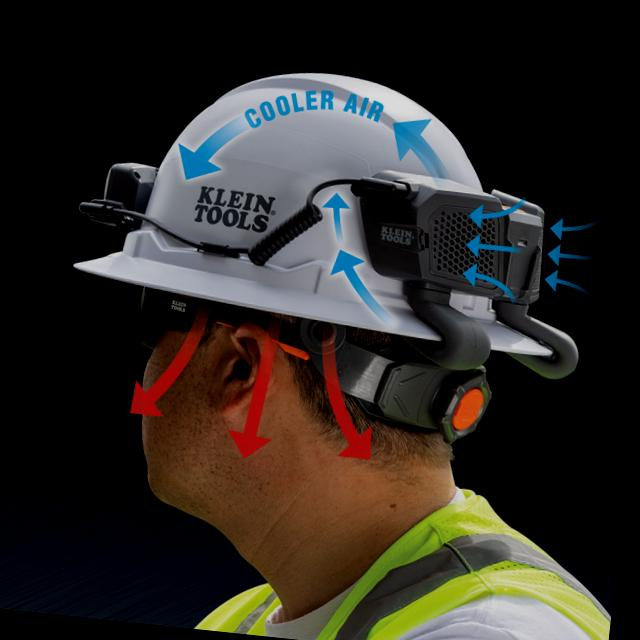helmet: (43, 31, 596, 386)
no-goggles: (119, 288, 308, 356)
vest: (181, 454, 623, 640)
